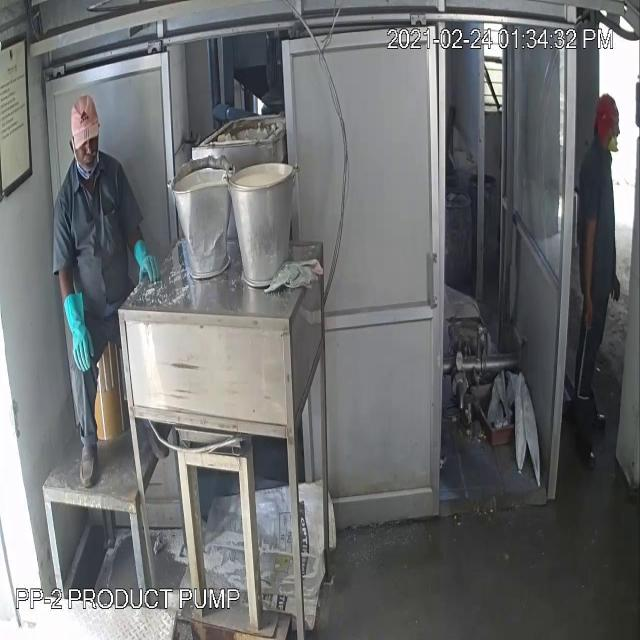no-helmet: (66, 89, 102, 157)
